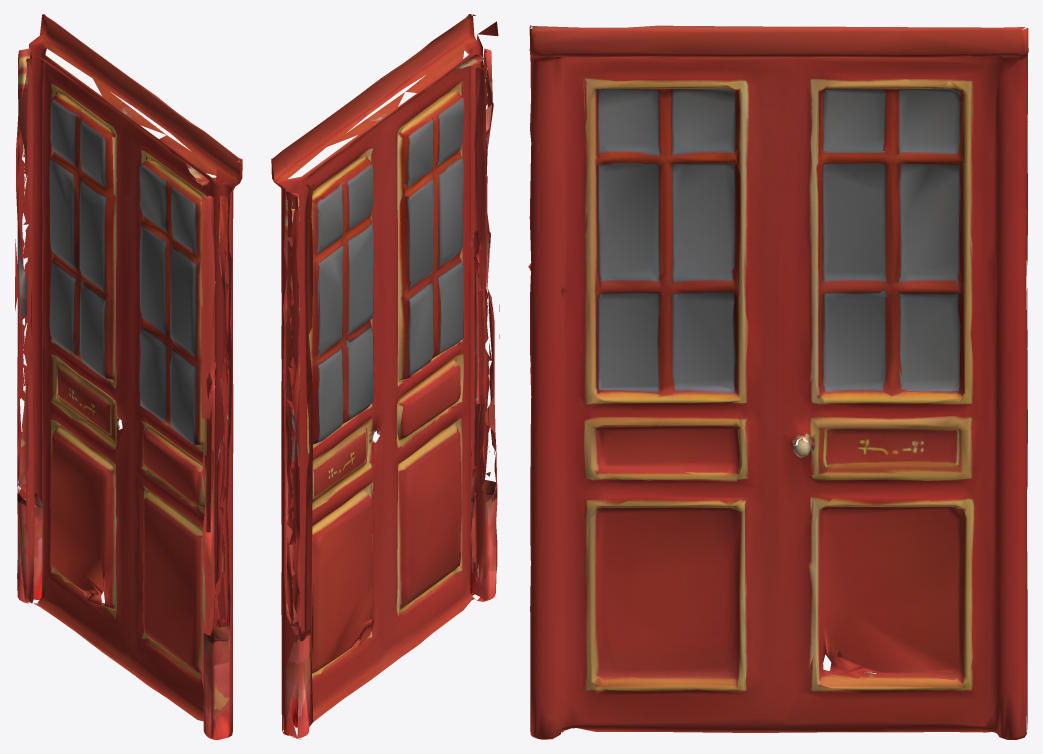
The model's file is Door.fbx.
The picture shows the model from 3 angles, left to right: view 1: azimuth 30°, elevation 25°; view 2: azimuth 150°, elevation 25°; view 3: azimuth 270°, elevation 25°; orthographic projection. The views are drawn at different scales.
Visible parts, largest first — view 1: Door; view 2: Door; view 3: Door.
Boxes of the visible parts, <box> form: Door: <box>15,14,242,739</box>; Door: <box>271,14,499,739</box>; Door: <box>528,25,1028,739</box>.
Size of the model in its own units: 5.7 by 99.92 by 63.07.
1 material, 1 textured.
